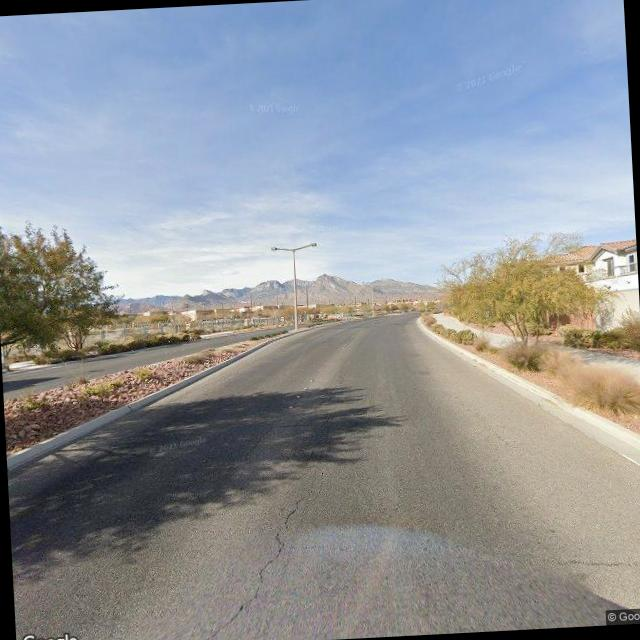pothole: (174, 480, 327, 640)
